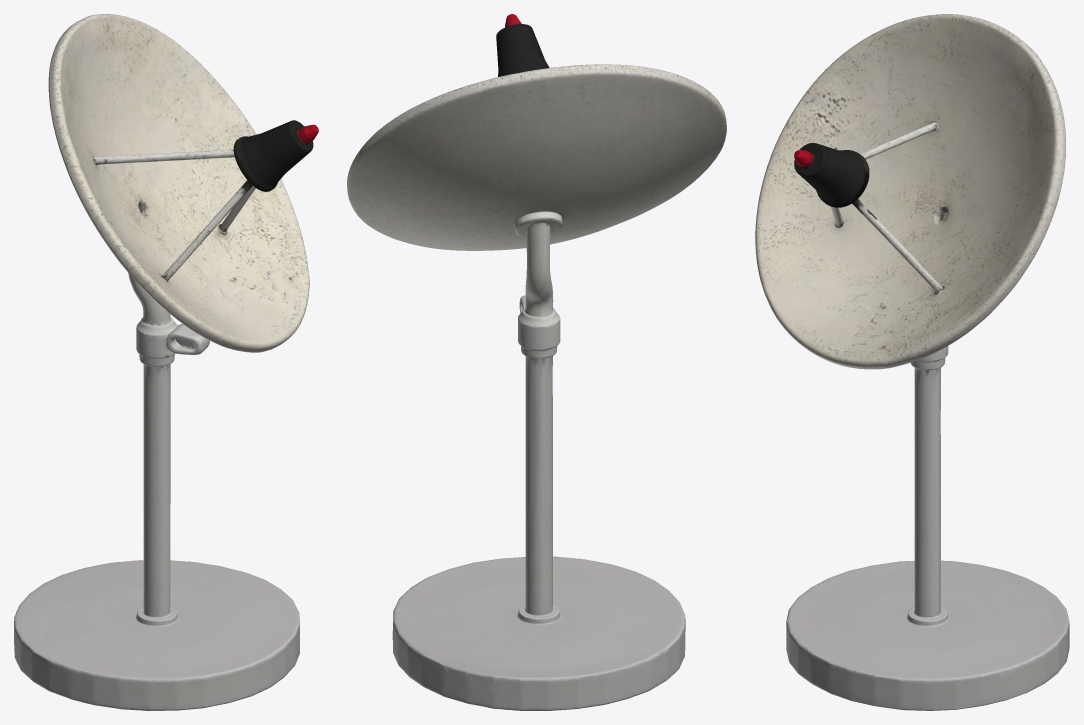
File: satellite-dish.glb
3 renders of one model, left to right at view 1: azimuth 30°, elevation 25°; view 2: azimuth 150°, elevation 25°; view 3: azimuth 270°, elevation 25°, orthographic. The views are drawn at different scales.
Parts seen in each view (by area): view 1: tripo_node_4db17fc2-ffc7-4bbf-ad5a-95f7d6949bad; view 2: tripo_node_4db17fc2-ffc7-4bbf-ad5a-95f7d6949bad; view 3: tripo_node_4db17fc2-ffc7-4bbf-ad5a-95f7d6949bad.
Part boxes in pixels (x1,y1,x2,y2): tripo_node_4db17fc2-ffc7-4bbf-ad5a-95f7d6949bad: [14, 14, 318, 710]; tripo_node_4db17fc2-ffc7-4bbf-ad5a-95f7d6949bad: [347, 14, 726, 710]; tripo_node_4db17fc2-ffc7-4bbf-ad5a-95f7d6949bad: [755, 14, 1069, 710].
Bounding box in the file's own units: 0.4723 × 0.9803 × 0.4646.
Materials: 1 (1 with a texture image).
